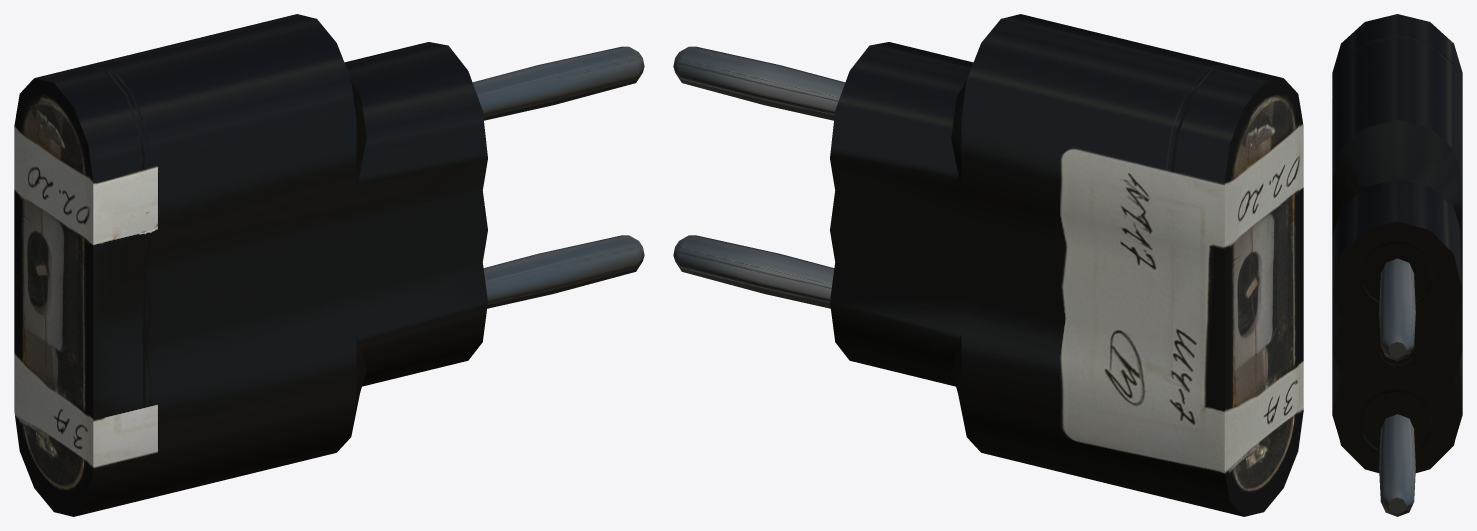
The model's file is fuse.fbx.
The picture shows the model from 3 angles, left to right: view 1: azimuth 30°, elevation 25°; view 2: azimuth 150°, elevation 25°; view 3: azimuth 270°, elevation 25°; orthographic projection. The views are drawn at different scales.
Visible parts, largest first — view 1: fuse; view 2: fuse; view 3: fuse.
Boxes of the visible parts, left/top/right/bottom form: fuse: left=14, top=14, right=644, bottom=516; fuse: left=673, top=14, right=1303, bottom=516; fuse: left=1332, top=14, right=1462, bottom=516.
Bounding box in the file's own units: 0.0667 × 0.0468 × 0.0156.
Materials: 1 (1 with a texture image).
